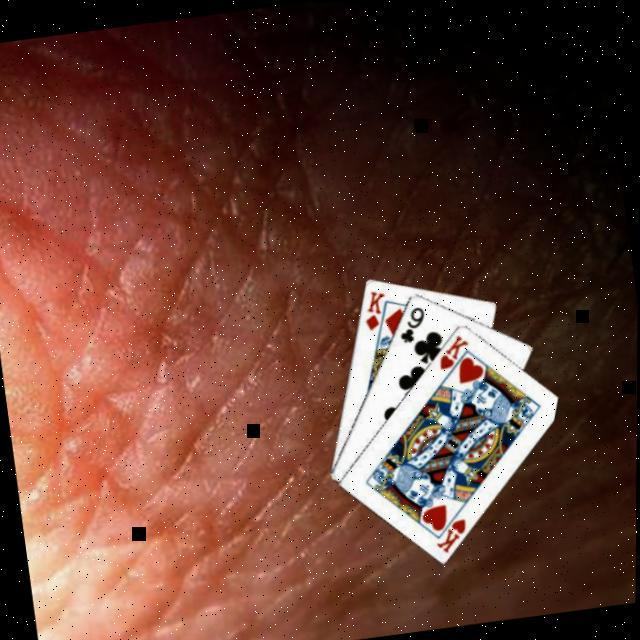9C: (395, 302, 432, 346)
KD: (359, 287, 393, 334)
KH: (434, 330, 476, 373), (431, 514, 474, 556)
